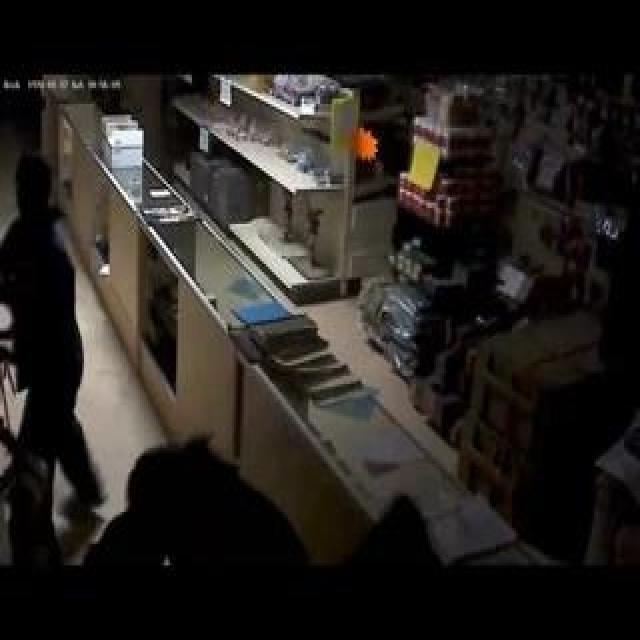thief: (14, 123, 66, 276)
